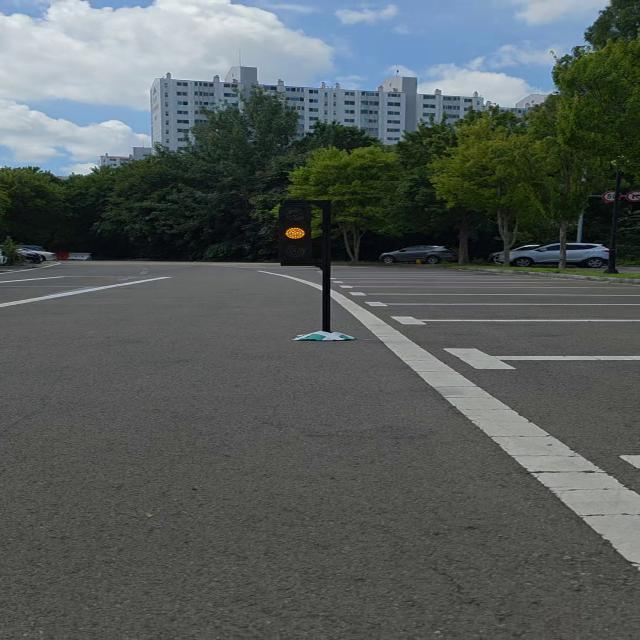yellow: (272, 204, 318, 265)
